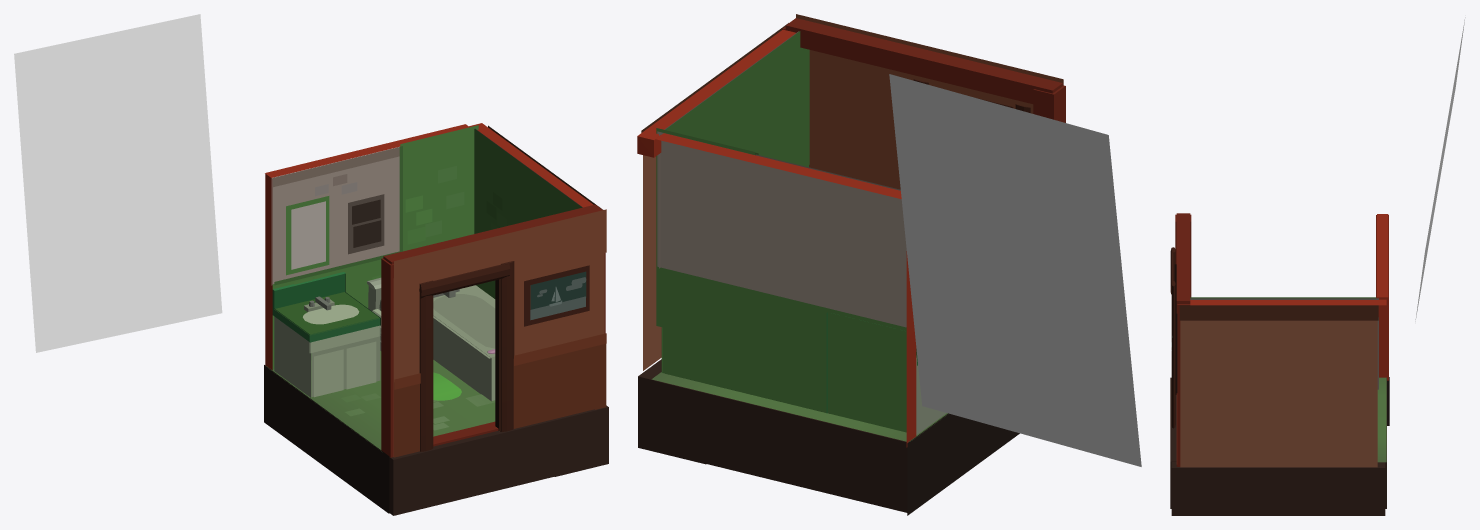
Rendered from Bathroom.fbx.
3 renders of one model, left to right at view 1: azimuth 30°, elevation 25°; view 2: azimuth 150°, elevation 25°; view 3: azimuth 270°, elevation 25°, orthographic. The views are drawn at different scales.
Visible parts, largest first — view 1: 41c176802ad08f7fb61d3722630b52ca--retro-bathroom-remodel-ret, bathroomwall3, Bathroomfloor, Bathroomwall1, Sink, Bathroomwall2, Tub; view 2: 41c176802ad08f7fb61d3722630b52ca--retro-bathroom-remodel-ret, Bathroomwall1, Bathroomfloor, bathroomwall3, Bathroomwall2, Sink; view 3: Bathroomwall2, Bathroomfloor, bathroomwall3, Bathroomwall1, 41c176802ad08f7fb61d3722630b52ca--retro-bathroom-remodel-ret.
Part boxes in pixels (x1=…): 41c176802ad08f7fb61d3722630b52ca--retro-bathroom-remodel-ret: x1=14, y1=14, x2=222, y2=352; bathroomwall3: x1=381, y1=204, x2=606, y2=457; Bathroomfloor: x1=264, y1=277, x2=608, y2=515; Bathroomwall1: x1=265, y1=124, x2=478, y2=370; Sink: x1=272, y1=272, x2=381, y2=397; Bathroomwall2: x1=469, y1=123, x2=605, y2=333; Tub: x1=433, y1=285, x2=495, y2=401; 41c176802ad08f7fb61d3722630b52ca--retro-bathroom-remodel-ret: x1=889, y1=74, x2=1141, y2=466; Bathroomwall1: x1=656, y1=128, x2=916, y2=447; Bathroomfloor: x1=638, y1=359, x2=1019, y2=515; bathroomwall3: x1=785, y1=14, x2=1065, y2=189; Bathroomwall2: x1=637, y1=23, x2=809, y2=372; Sink: x1=826, y1=312, x2=946, y2=434; Bathroomwall2: x1=1177, y1=297, x2=1386, y2=467; Bathroomfloor: x1=1170, y1=377, x2=1389, y2=515; bathroomwall3: x1=1170, y1=213, x2=1191, y2=428; Bathroomwall1: x1=1376, y1=214, x2=1388, y2=380; 41c176802ad08f7fb61d3722630b52ca--retro-bathroom-remodel-ret: x1=1415, y1=17, x2=1465, y2=321.
Bounding box in the file's own units: 9.43 × 8.19 × 6.69.
